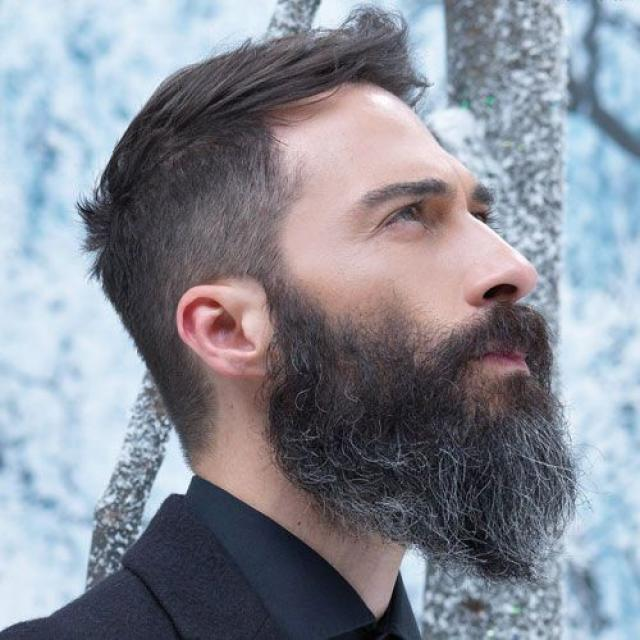beard: (269, 301, 577, 581)
hair: (81, 12, 422, 454)
